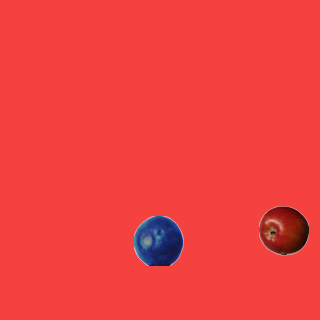Apple Braeburn: (258, 205, 308, 255)
Huckleberry: (133, 215, 183, 265)
